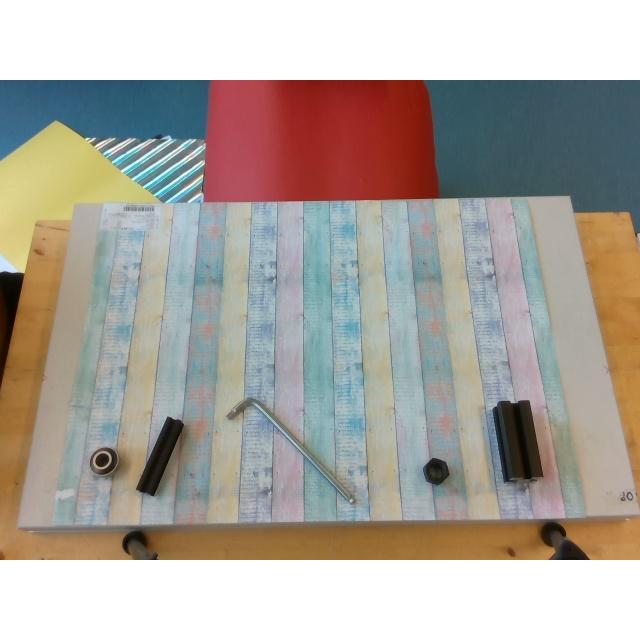AllenKey: (226, 396, 354, 504)
Bearing2: (89, 447, 117, 475)
F20_20_B: (136, 417, 184, 495)
M20: (423, 458, 449, 484)
S40_40_B: (492, 400, 542, 480)
